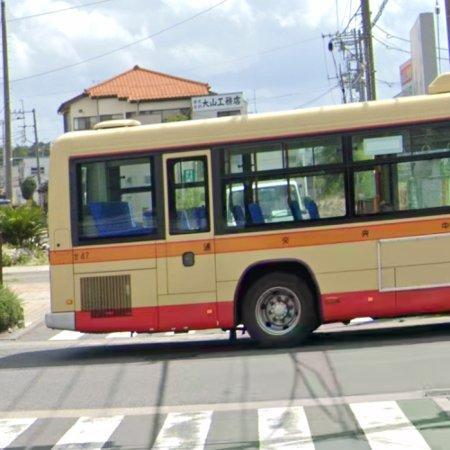buses: (45, 93, 450, 346)
